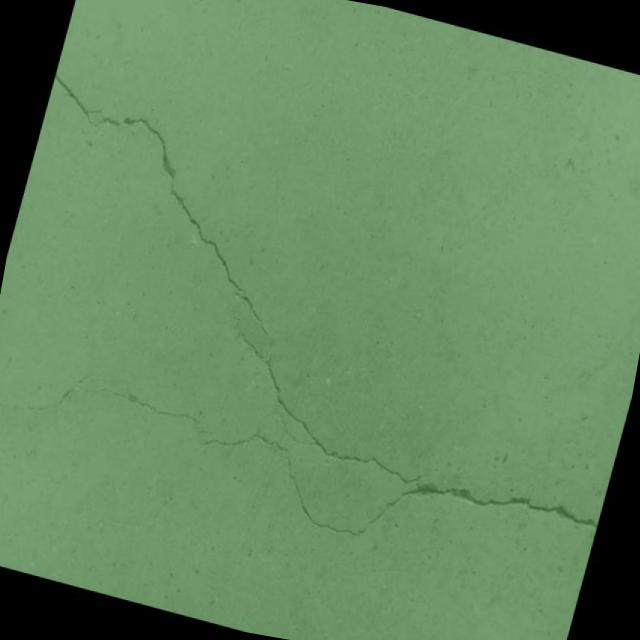crack: (0, 69, 640, 602)
